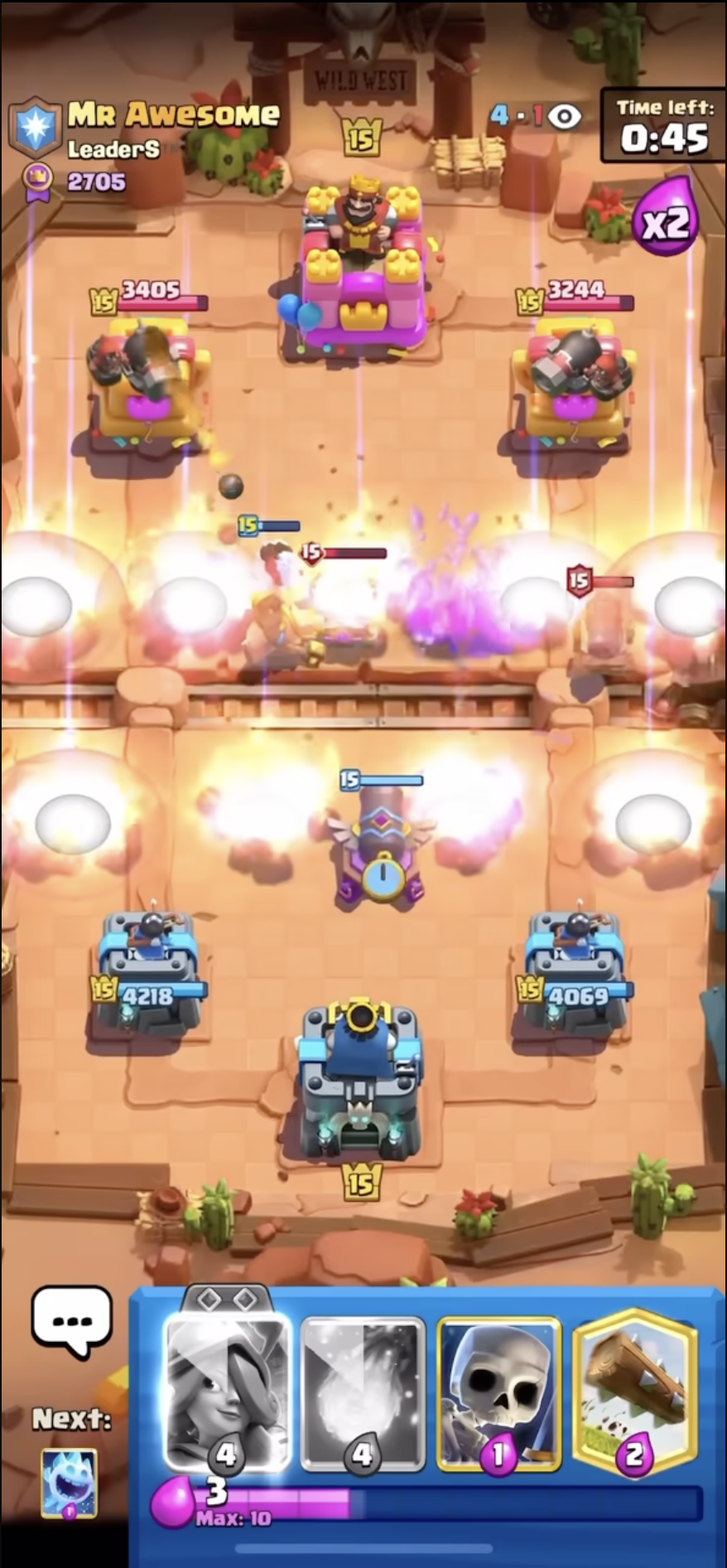evo-cannon: (317, 749, 453, 925)
